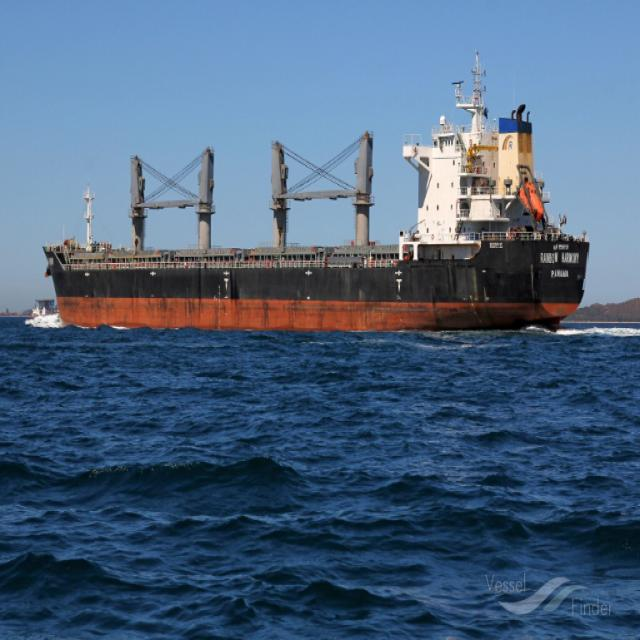OCR: (533, 239, 589, 291)
